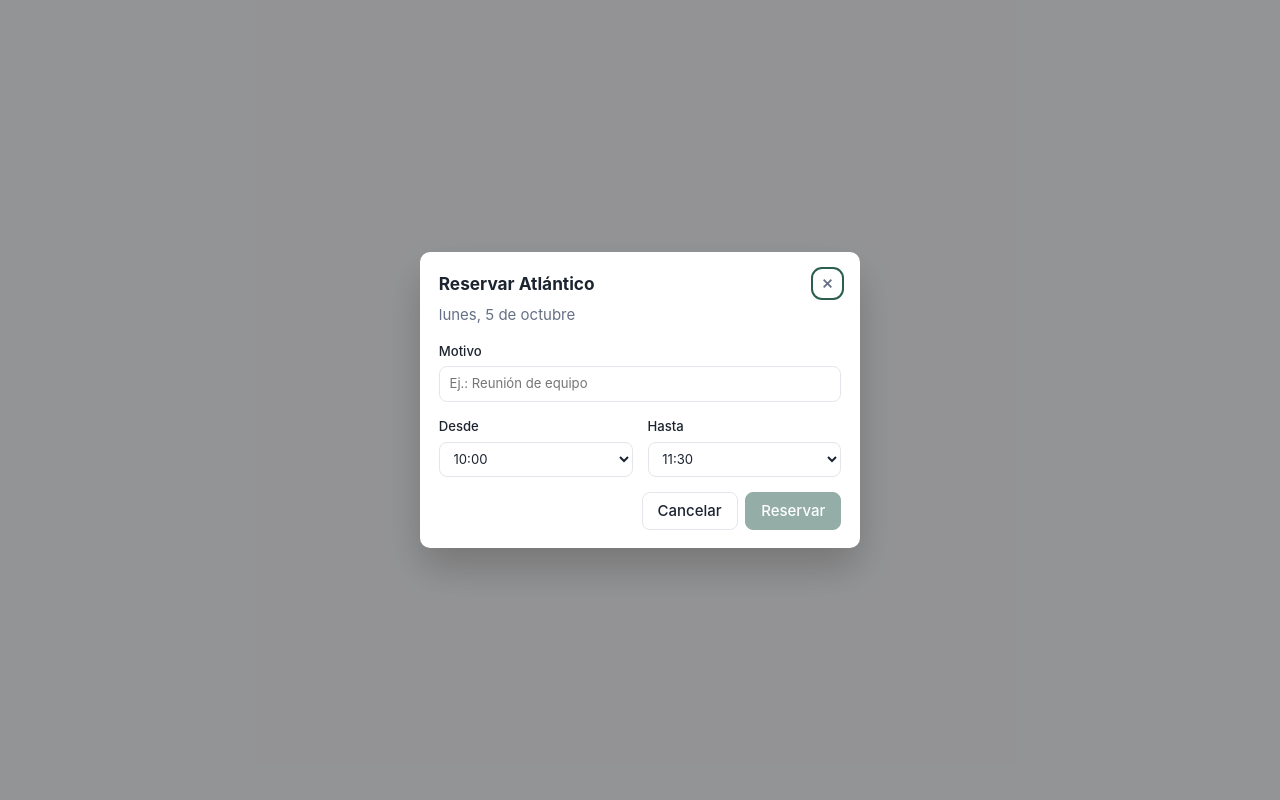
Scenario: BookingDialog › keeps the duration when the start time changes
Select "12:00" in the dropdown labelled "Desde" at [536, 459], box x1=439 y1=442 x2=633 y2=477
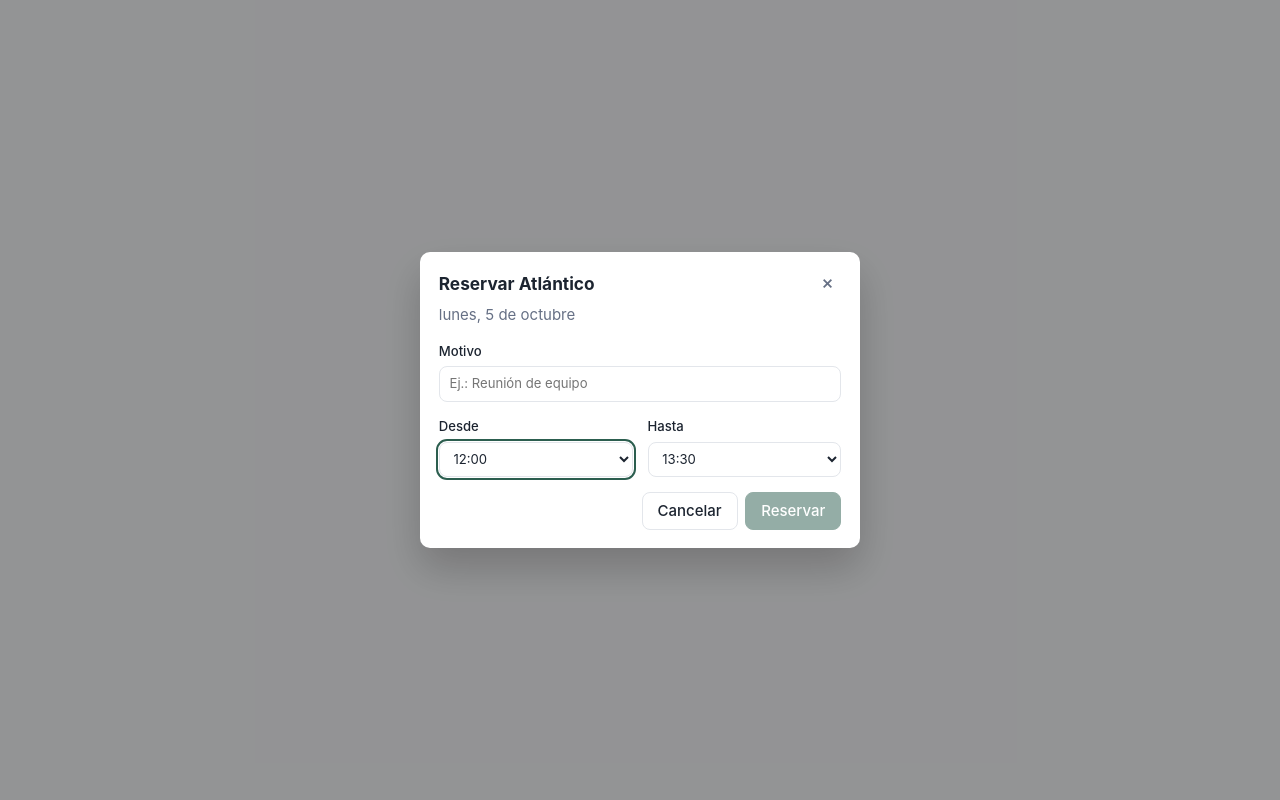
Expected: the dropdown labelled "Hasta" shows "13:30", x1=648 y1=442 x2=841 y2=477
